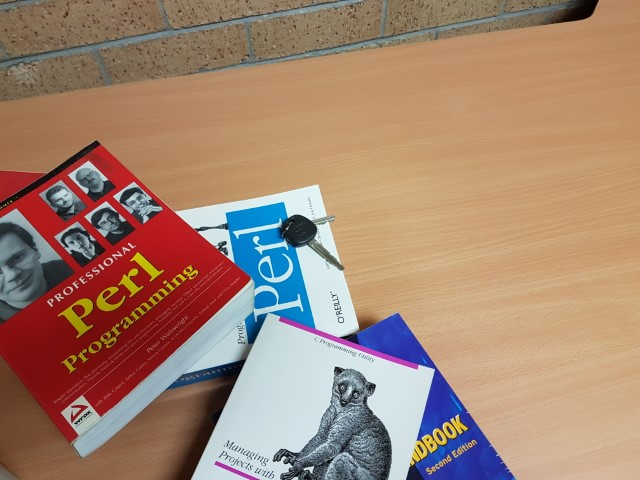key: (280, 215, 346, 270)
